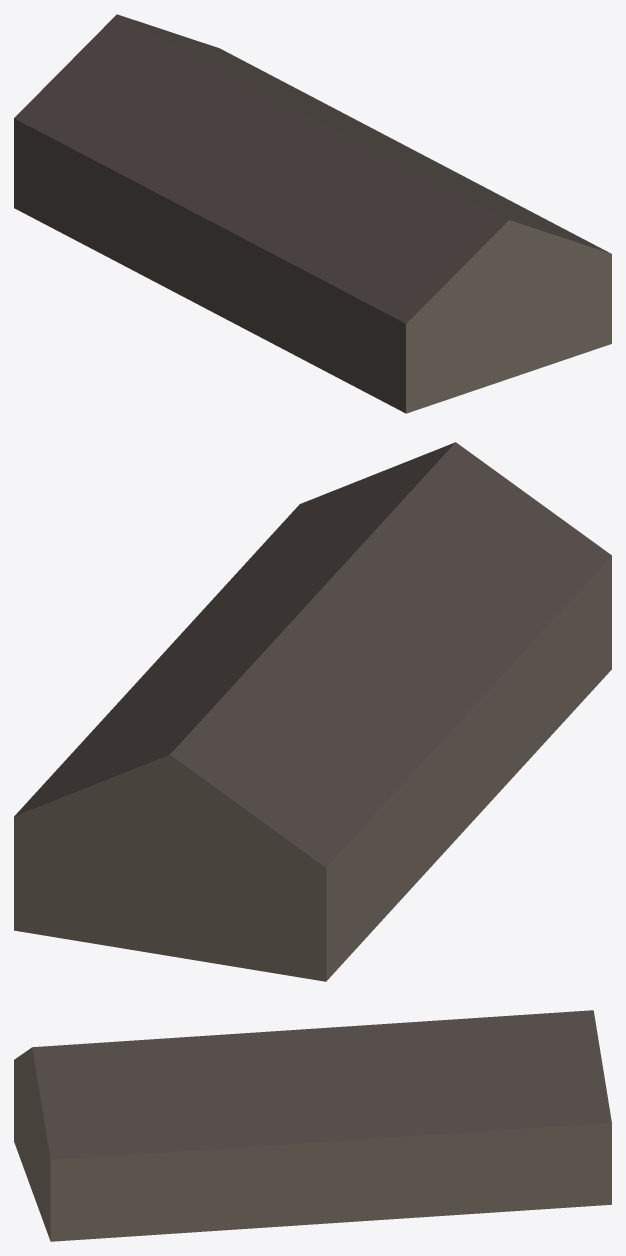
3 views of the same model, one above another, from view 1: azimuth 30°, elevation 25°; view 2: azimuth 150°, elevation 25°; view 3: azimuth 270°, elevation 25° (orthographic). The views are drawn at different scales.
Visible parts, largest first — view 1: HP-w858807466; view 2: HP-w858807466; view 3: HP-w858807466.
Part boxes in pixels (x1,y1,x2,y2): HP-w858807466: (14, 14, 611, 413); HP-w858807466: (14, 442, 611, 981); HP-w858807466: (14, 1010, 611, 1241).
Bounding box in the file's own units: 10.81 × 5.31 × 19.91.
